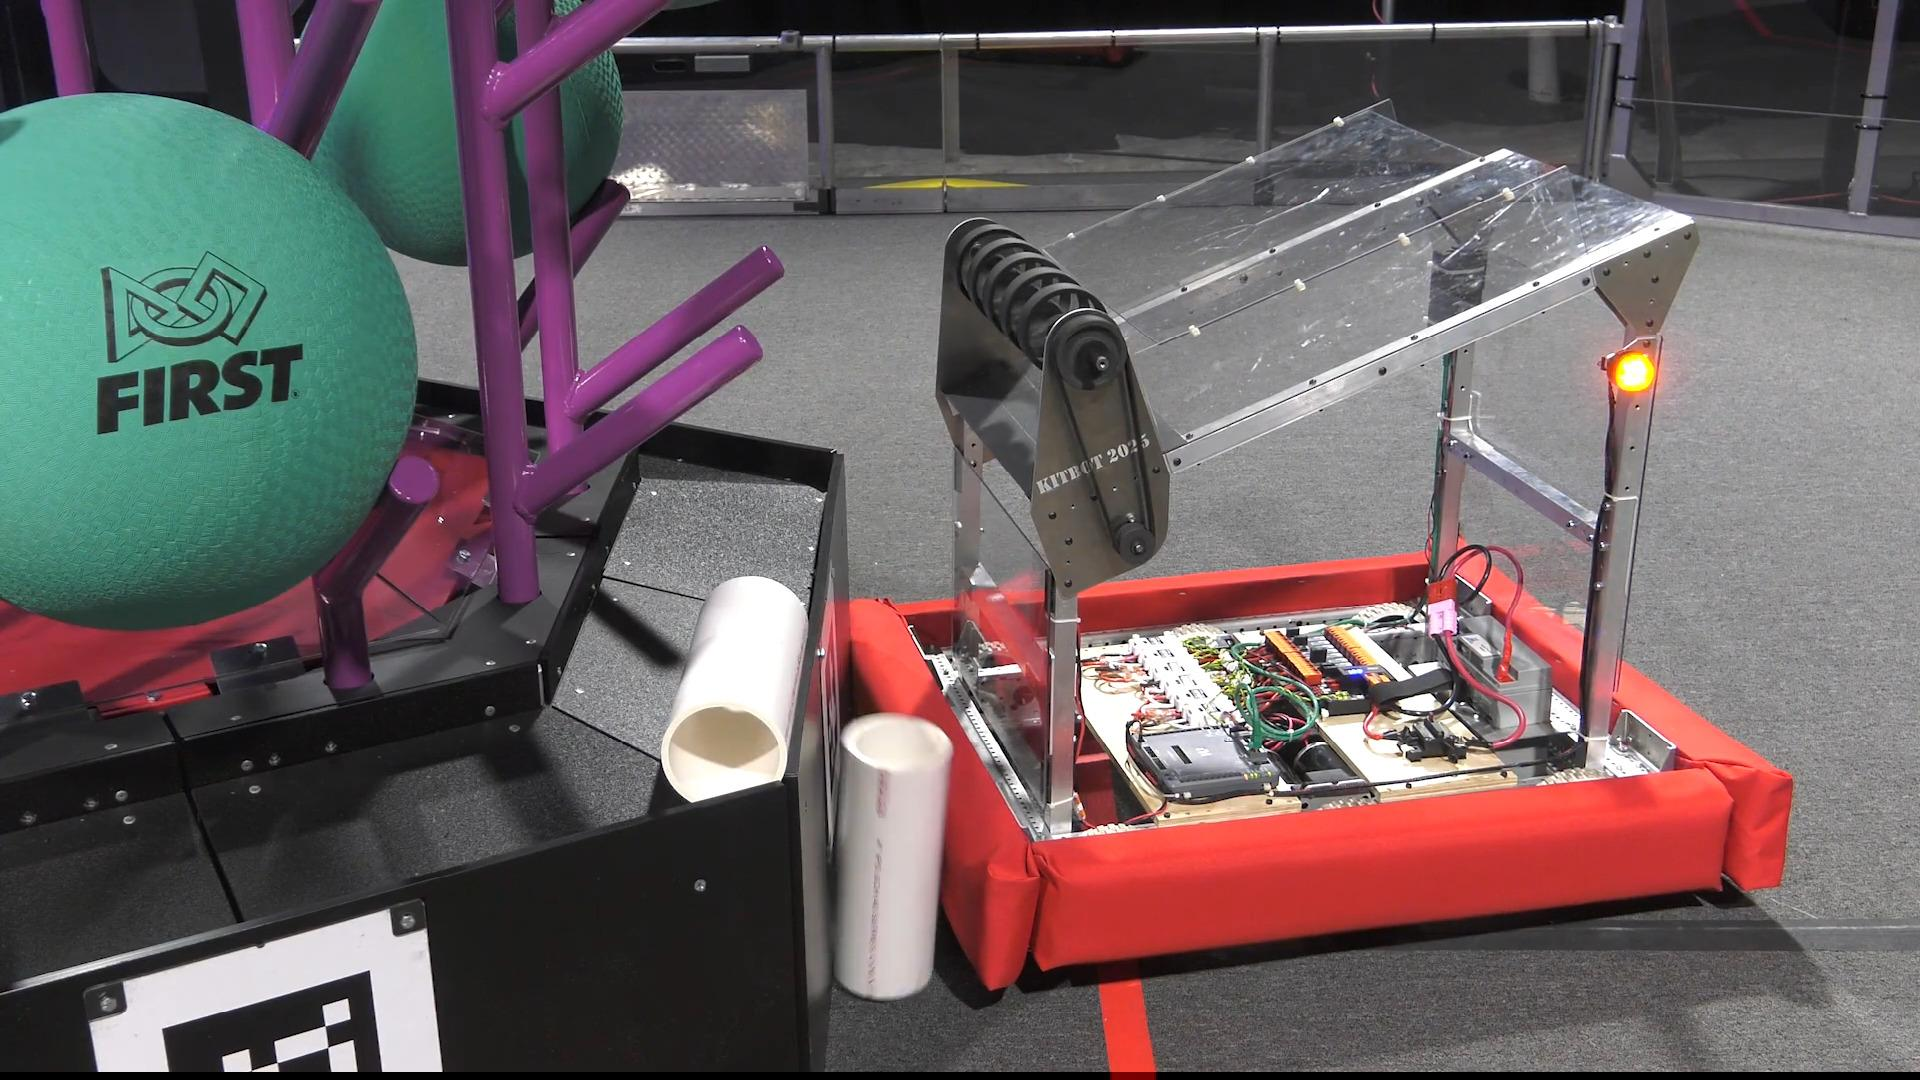coral: (829, 711, 953, 1002), (657, 574, 808, 804)
